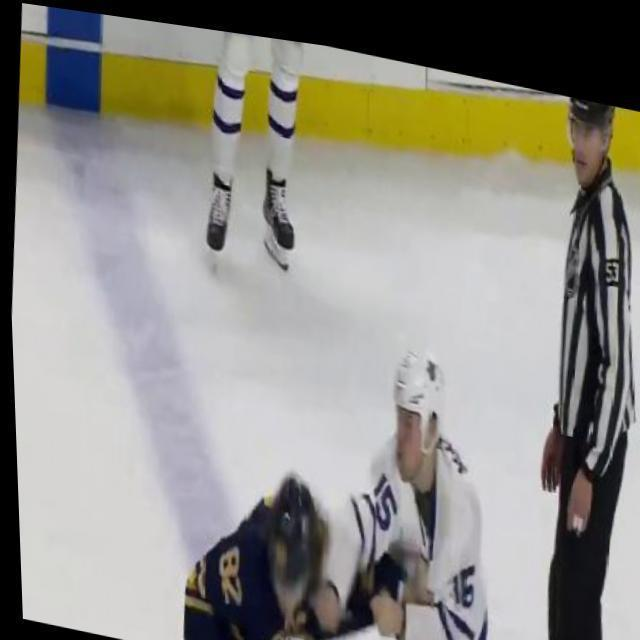fight: (166, 297, 515, 640)
